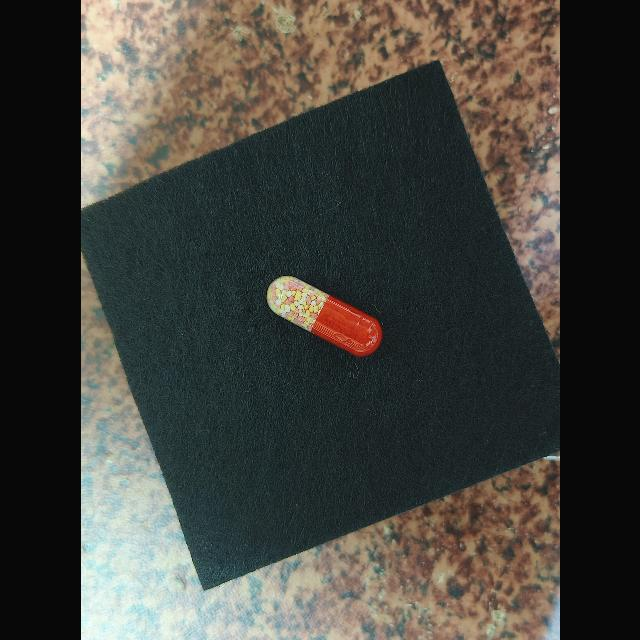Intact Capsule: (266, 276, 382, 357)
